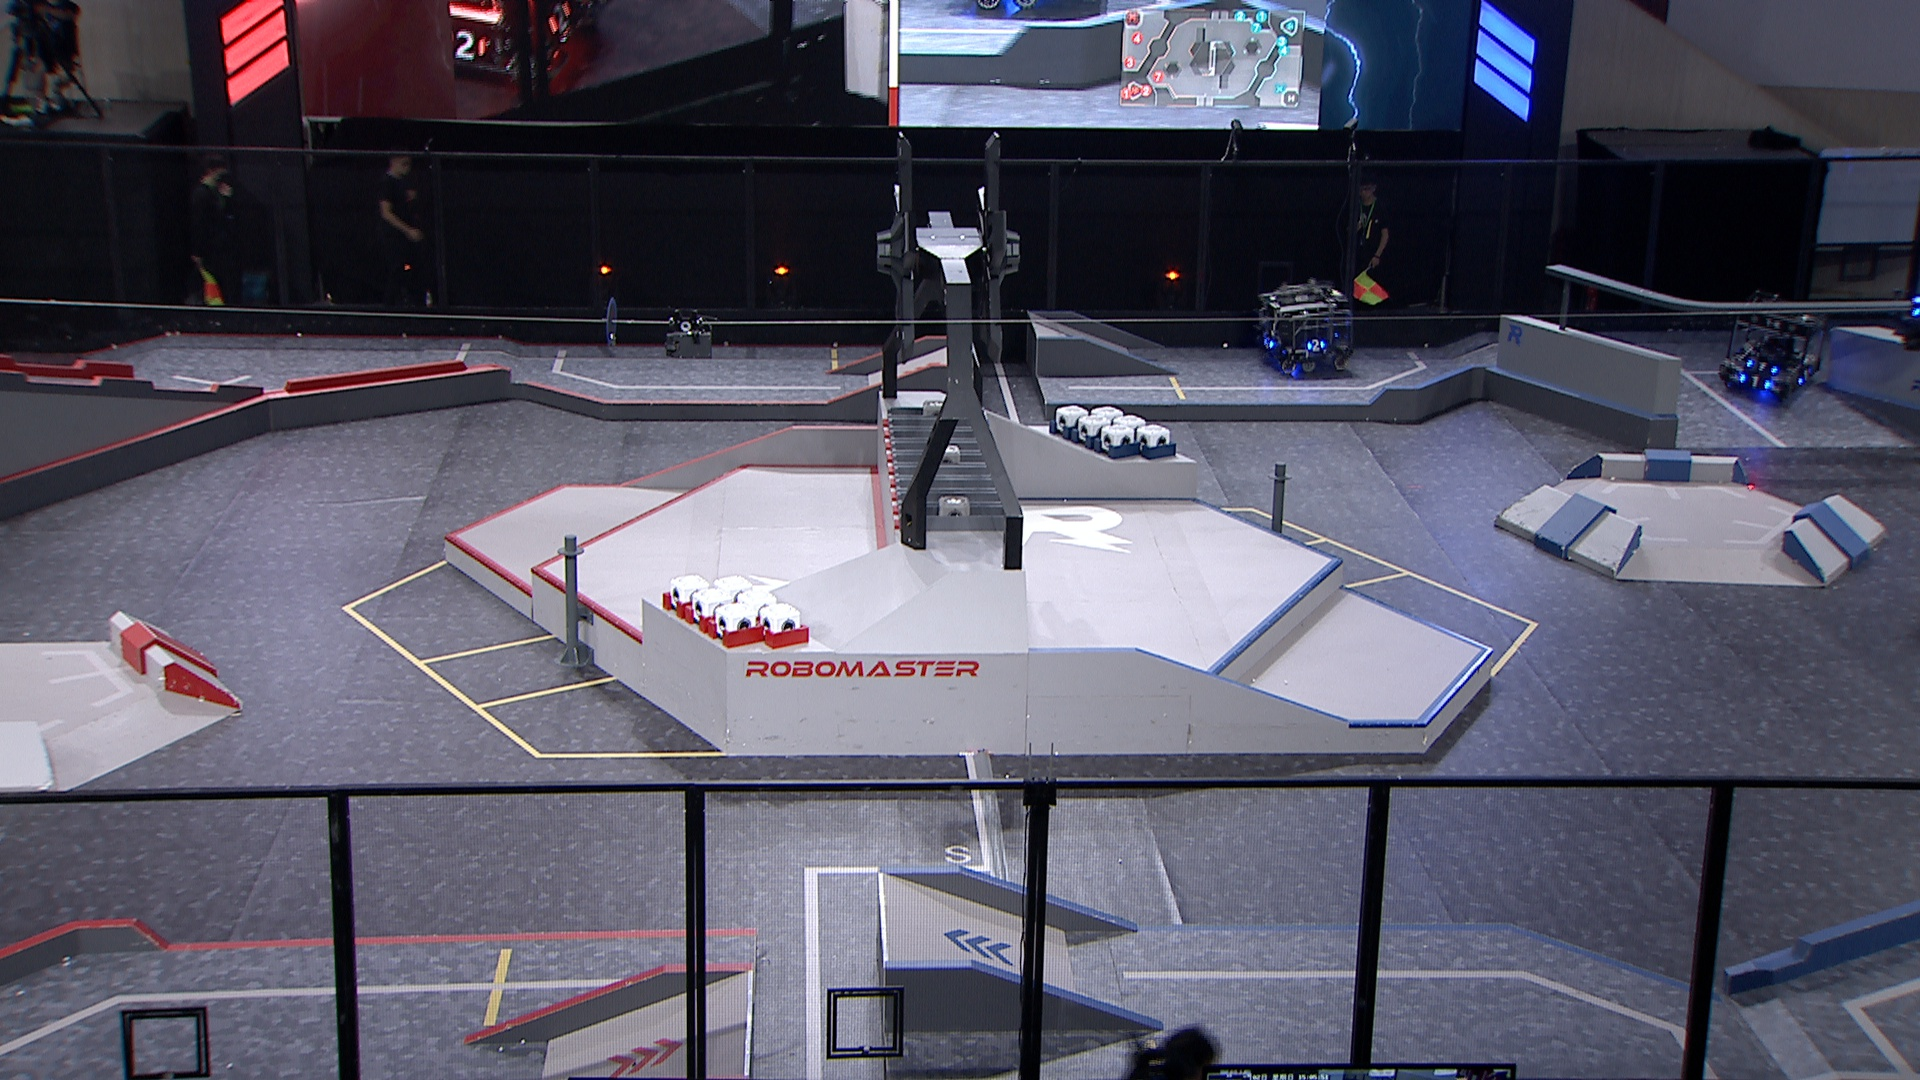armor: (1737, 372, 1774, 390), (1745, 357, 1778, 375), (1795, 367, 1813, 385), (1305, 338, 1325, 353), (1259, 334, 1276, 351)
car: (1718, 297, 1828, 404), (1254, 278, 1356, 376)
ignore: (443, 0, 604, 84)
watcher: (1890, 290, 1920, 352)
